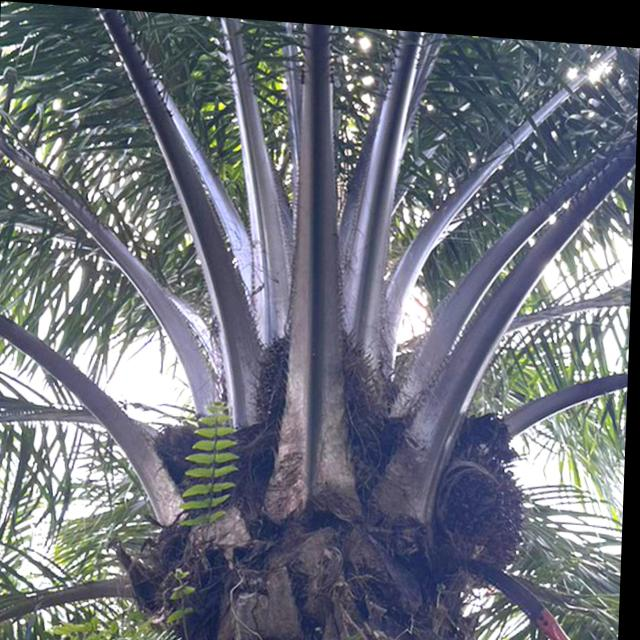unripe: (251, 306, 380, 456), (432, 426, 532, 564)
